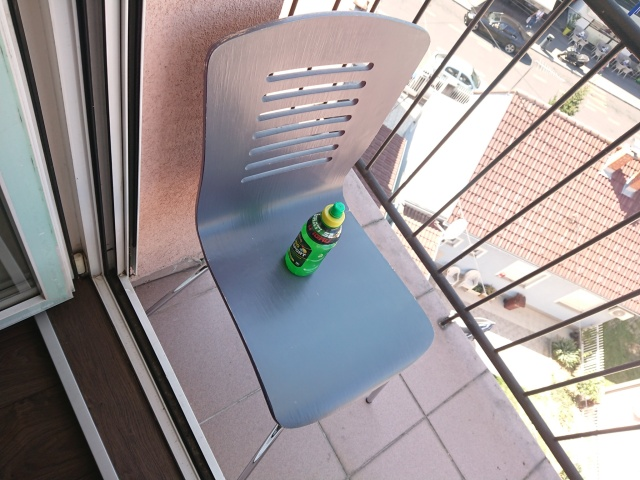Vindi Iso Sport Lemon-Grapefruit 500mL: (282, 199, 348, 279)
